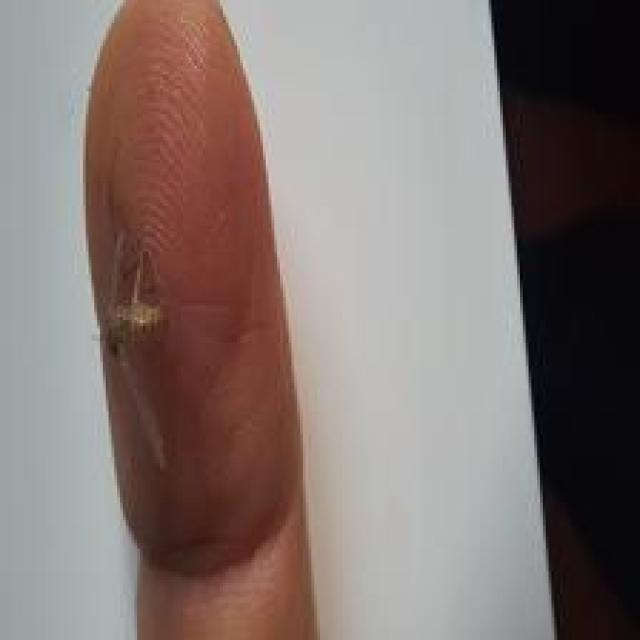Culex: (99, 227, 167, 362)
